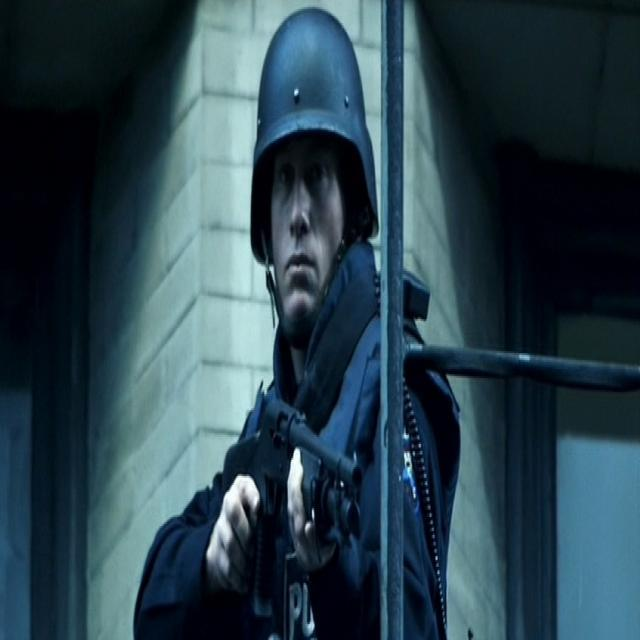gun-knife-thesis - v11 Yolov5 augmented: (205, 371, 368, 638)
